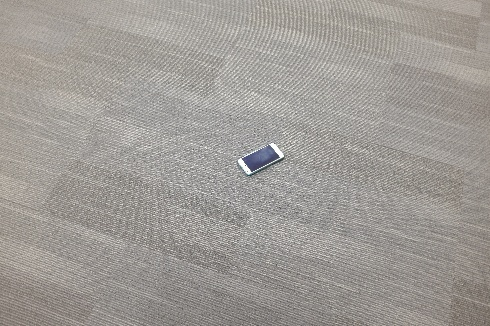phone: (235, 143, 284, 175)
